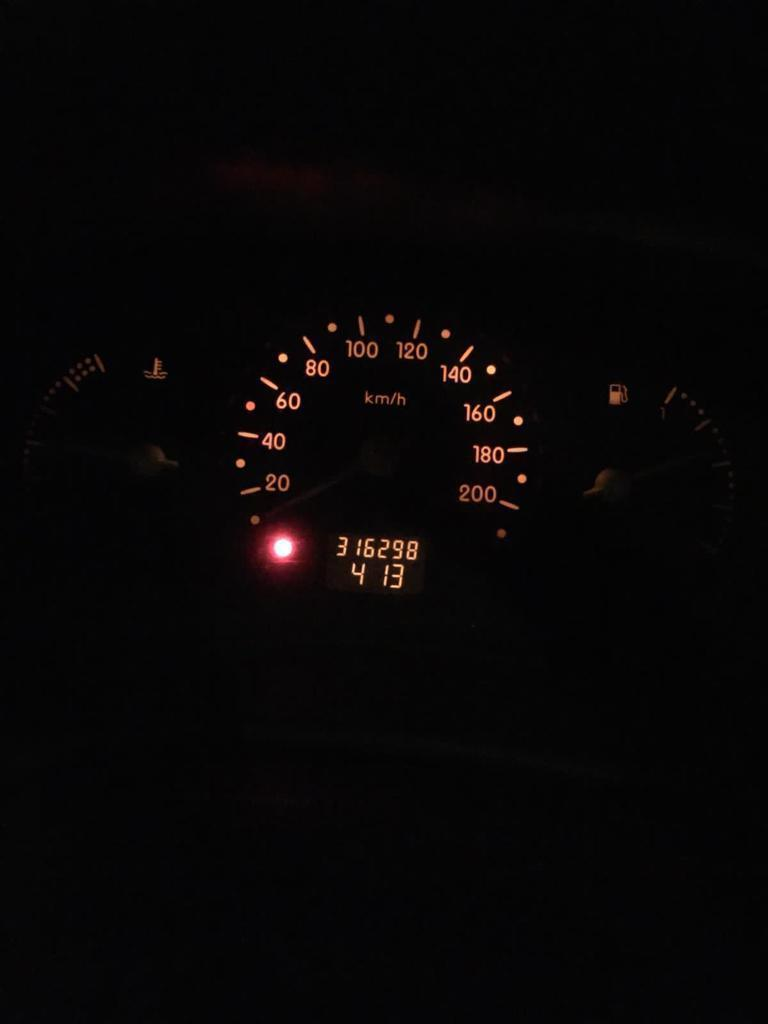1: (382, 563, 389, 586), (355, 538, 362, 556)
2: (376, 538, 389, 558)
3: (389, 563, 404, 588), (335, 536, 348, 556)
4: (350, 562, 365, 586)
6: (362, 538, 374, 558)
8: (405, 540, 418, 560)
9: (391, 539, 403, 559)
odometer: (320, 531, 428, 594)
